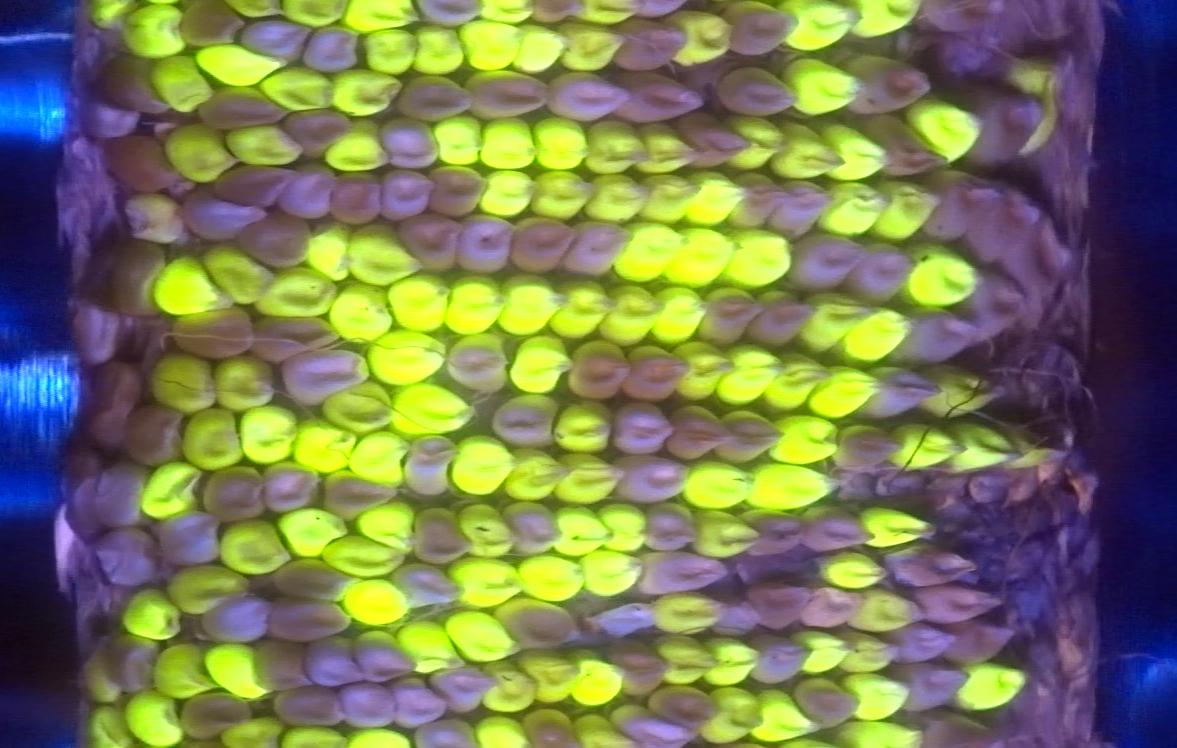fluorescent: (897, 242, 980, 309), (908, 99, 985, 167), (1008, 60, 1060, 157), (747, 463, 838, 513), (203, 243, 274, 304), (780, 62, 866, 112), (163, 123, 239, 179), (258, 262, 332, 319), (723, 112, 795, 169), (841, 305, 907, 367), (450, 433, 516, 495), (806, 366, 885, 417), (204, 643, 273, 701), (154, 259, 228, 313), (803, 290, 864, 355), (366, 330, 443, 381), (819, 123, 886, 181), (668, 339, 730, 401), (197, 45, 284, 89), (776, 1, 854, 50), (350, 228, 419, 283), (673, 226, 734, 288), (459, 18, 522, 77), (725, 229, 790, 286), (495, 275, 557, 334), (944, 422, 1013, 475), (614, 223, 677, 281), (874, 184, 939, 240), (776, 124, 842, 179), (682, 457, 753, 508), (398, 384, 470, 434), (747, 693, 825, 739), (852, 506, 937, 548), (585, 122, 652, 175), (180, 407, 239, 467), (152, 354, 214, 411), (927, 367, 997, 417), (949, 666, 1028, 710), (661, 9, 724, 64), (771, 350, 828, 409), (444, 559, 522, 602), (122, 690, 184, 744), (294, 416, 353, 472), (169, 573, 251, 613), (226, 125, 304, 167), (331, 71, 399, 119), (518, 556, 583, 606), (123, 4, 180, 61), (329, 286, 386, 343), (150, 54, 209, 109), (386, 275, 445, 330), (508, 338, 568, 392), (557, 22, 623, 71), (341, 577, 405, 627), (399, 621, 459, 674), (324, 383, 393, 429), (448, 275, 500, 336), (211, 359, 277, 407), (719, 350, 776, 405), (478, 661, 538, 713), (645, 593, 719, 635), (836, 672, 906, 716), (700, 692, 764, 740), (823, 185, 883, 236), (348, 435, 408, 486), (321, 535, 405, 571), (448, 612, 518, 655), (144, 463, 204, 513), (570, 651, 625, 705), (551, 279, 604, 335), (691, 511, 758, 555), (508, 448, 563, 501), (263, 71, 334, 112), (895, 427, 953, 477), (576, 552, 639, 598), (82, 637, 122, 709), (596, 288, 649, 342), (278, 509, 346, 551), (558, 457, 624, 500), (515, 21, 567, 75), (646, 291, 700, 343), (225, 524, 293, 565), (123, 590, 181, 638), (326, 125, 389, 169), (358, 504, 418, 550), (640, 120, 692, 173), (453, 508, 517, 551), (767, 420, 834, 461), (687, 175, 744, 223), (525, 653, 579, 702), (820, 549, 886, 589), (154, 651, 215, 694), (482, 121, 538, 167), (592, 176, 649, 221), (555, 505, 610, 551), (656, 640, 713, 684), (413, 23, 463, 73), (848, 1, 921, 35), (307, 223, 351, 279), (533, 124, 590, 167), (792, 631, 849, 674), (859, 593, 925, 630), (242, 412, 291, 461), (557, 404, 614, 446), (430, 122, 486, 164), (597, 504, 650, 548), (535, 173, 587, 217), (840, 635, 899, 673), (706, 642, 758, 685), (829, 722, 921, 746), (643, 178, 692, 223), (365, 32, 414, 74), (482, 173, 528, 217), (574, 714, 635, 746), (1007, 429, 1050, 473), (353, 1, 417, 29), (87, 706, 121, 748), (574, 1, 634, 24), (285, 2, 348, 22), (221, 724, 282, 744), (285, 727, 348, 746), (477, 722, 529, 744), (225, 2, 278, 20), (354, 730, 408, 747), (483, 1, 529, 18)
nonfluorescent: (971, 79, 1027, 167), (849, 52, 931, 110), (97, 53, 173, 113), (167, 306, 256, 357), (1026, 203, 1068, 309), (101, 136, 177, 194), (560, 341, 631, 402), (724, 1, 799, 58), (315, 467, 391, 523), (250, 315, 342, 360), (194, 86, 282, 133), (623, 71, 706, 120), (284, 349, 370, 396), (876, 117, 942, 178), (751, 287, 812, 353), (679, 112, 744, 173), (379, 115, 447, 173), (927, 173, 983, 243), (447, 333, 512, 393), (266, 595, 352, 640), (94, 526, 154, 590), (637, 553, 726, 596), (789, 232, 858, 287), (902, 310, 971, 365), (621, 343, 685, 402), (500, 599, 577, 648), (200, 465, 263, 524), (720, 70, 799, 117), (890, 660, 969, 707), (979, 185, 1027, 262), (404, 433, 460, 499), (508, 214, 573, 270), (73, 290, 122, 364), (354, 625, 416, 683), (696, 287, 760, 343), (467, 72, 550, 115), (92, 366, 136, 446), (158, 512, 221, 567), (380, 163, 437, 223), (202, 598, 273, 646), (406, 213, 466, 269), (916, 706, 1000, 746), (775, 183, 837, 236), (549, 73, 623, 117), (245, 218, 310, 268), (260, 462, 316, 520), (943, 621, 1015, 666), (185, 199, 265, 239), (800, 581, 864, 631), (219, 162, 290, 207), (613, 457, 684, 502), (128, 407, 184, 464), (894, 545, 973, 585), (873, 367, 931, 421), (488, 396, 556, 442), (974, 275, 1025, 336), (122, 241, 164, 315), (431, 667, 500, 712), (397, 74, 469, 117), (281, 163, 337, 218), (613, 403, 671, 456), (102, 464, 144, 536), (179, 1, 246, 46), (622, 19, 682, 69), (271, 562, 352, 599), (183, 692, 254, 734), (747, 577, 802, 631), (918, 1, 999, 37), (863, 241, 909, 304), (720, 415, 779, 464), (614, 638, 665, 694), (255, 637, 305, 694), (243, 14, 301, 63), (66, 455, 98, 543), (617, 710, 691, 748), (410, 510, 463, 563), (400, 563, 461, 609), (270, 692, 347, 728), (744, 510, 804, 556), (668, 406, 722, 457), (509, 504, 563, 555), (466, 210, 509, 274), (300, 27, 363, 70), (794, 681, 854, 726), (839, 425, 895, 473), (887, 621, 952, 662), (807, 510, 873, 550), (338, 683, 396, 728), (577, 222, 626, 275), (107, 632, 151, 691), (437, 163, 484, 217), (737, 173, 784, 227), (315, 635, 361, 690), (291, 110, 351, 152), (760, 634, 809, 685), (394, 678, 445, 726), (517, 706, 574, 748), (335, 168, 379, 221), (645, 505, 698, 549), (918, 586, 991, 617), (656, 688, 715, 726), (416, 1, 484, 25), (411, 722, 470, 748), (716, 600, 756, 635), (531, 1, 578, 25), (635, 1, 685, 20)
